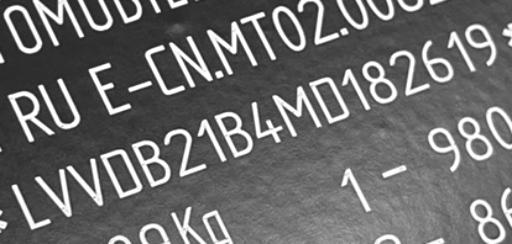letter: (30, 165, 84, 224), (271, 83, 327, 137), (163, 122, 209, 182), (64, 154, 114, 209), (95, 146, 145, 199), (212, 108, 264, 158), (4, 181, 54, 230), (306, 73, 354, 122), (130, 136, 172, 189), (194, 116, 238, 166), (387, 49, 431, 98), (358, 59, 402, 104), (463, 22, 505, 67), (246, 98, 284, 144), (420, 38, 458, 83), (341, 66, 375, 115), (446, 28, 478, 73)
